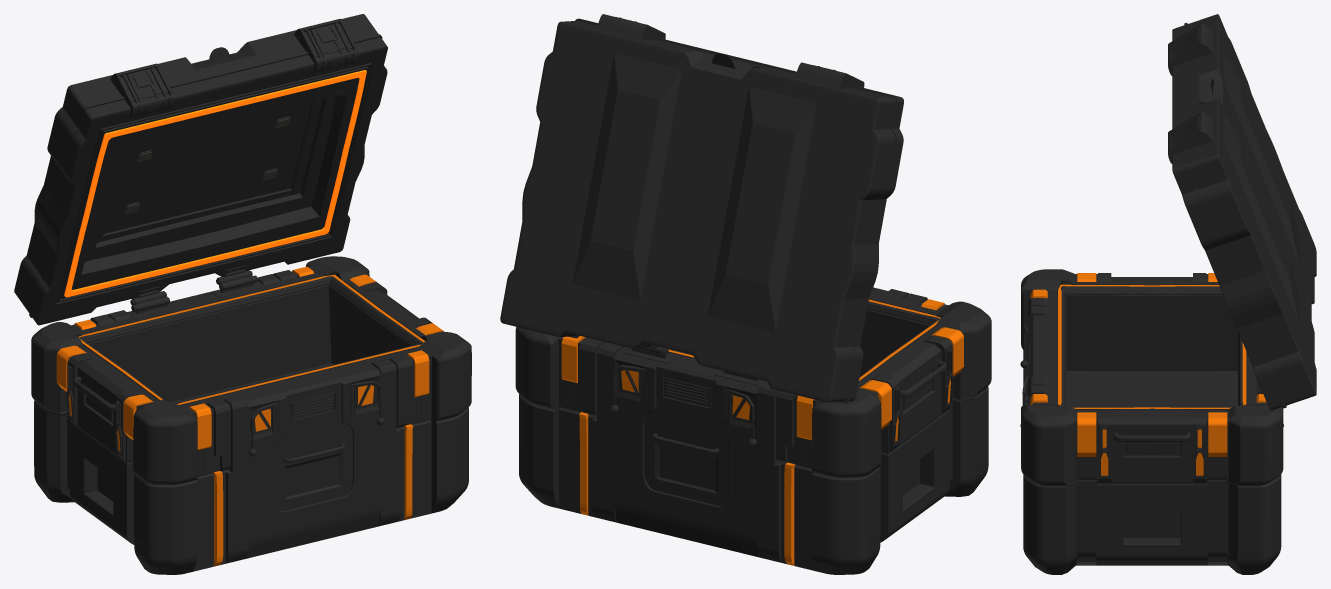
The picture shows the model from 3 angles, left to right: view 1: azimuth 30°, elevation 25°; view 2: azimuth 150°, elevation 25°; view 3: azimuth 270°, elevation 25°; orthographic projection. The views are drawn at different scales.
Parts seen in each view (by area): view 1: Основа, крышка, петли; view 2: крышка, Основа, петли; view 3: Основа, крышка.
Part boxes in pixels (x1,y1,x2,y2): Основа: [31, 256, 471, 574]; крышка: [14, 14, 387, 325]; петли: [127, 265, 262, 318]; крышка: [500, 14, 903, 403]; Основа: [515, 287, 991, 574]; петли: [621, 346, 764, 385]; Основа: [1020, 269, 1283, 574]; крышка: [1168, 14, 1316, 410].
Size of the model in its own units: 2.37 by 3 by 1.9.
